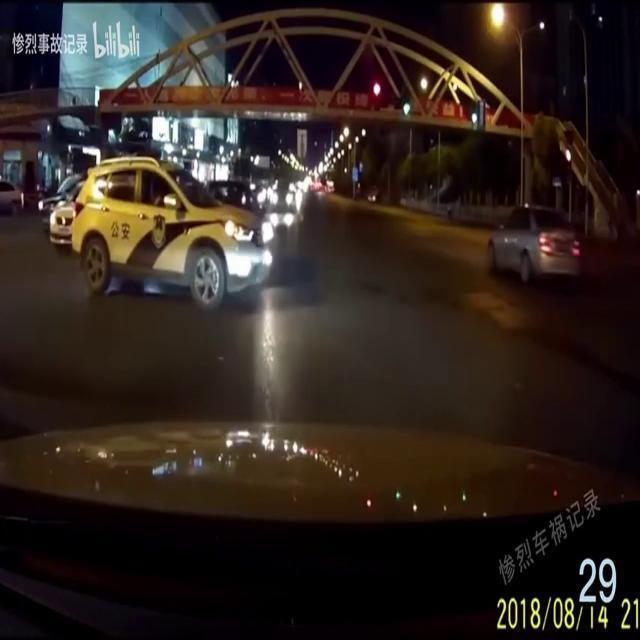accident: (70, 154, 276, 316)
